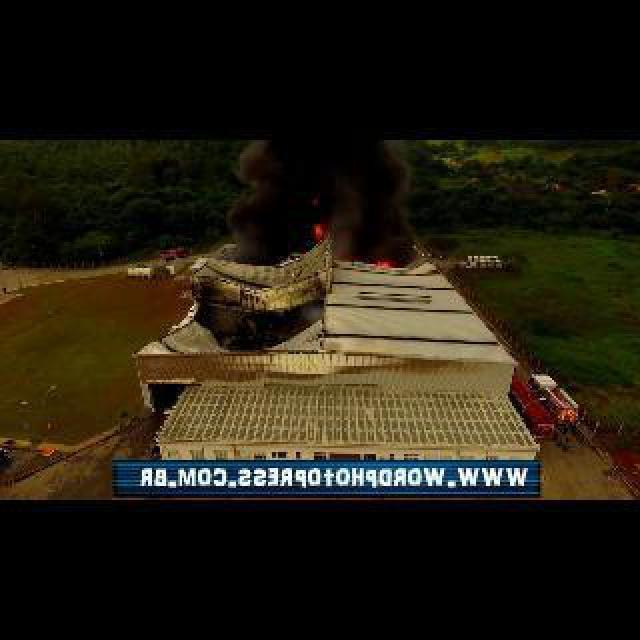fire: (216, 144, 416, 266), (314, 224, 322, 242), (378, 262, 392, 268)
